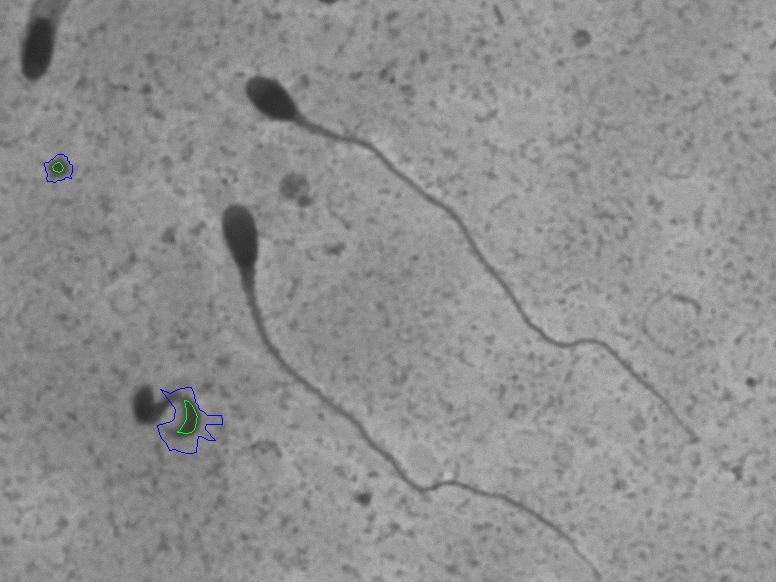Abnormal: (211, 186, 605, 572)
Normal: (219, 54, 726, 471)
